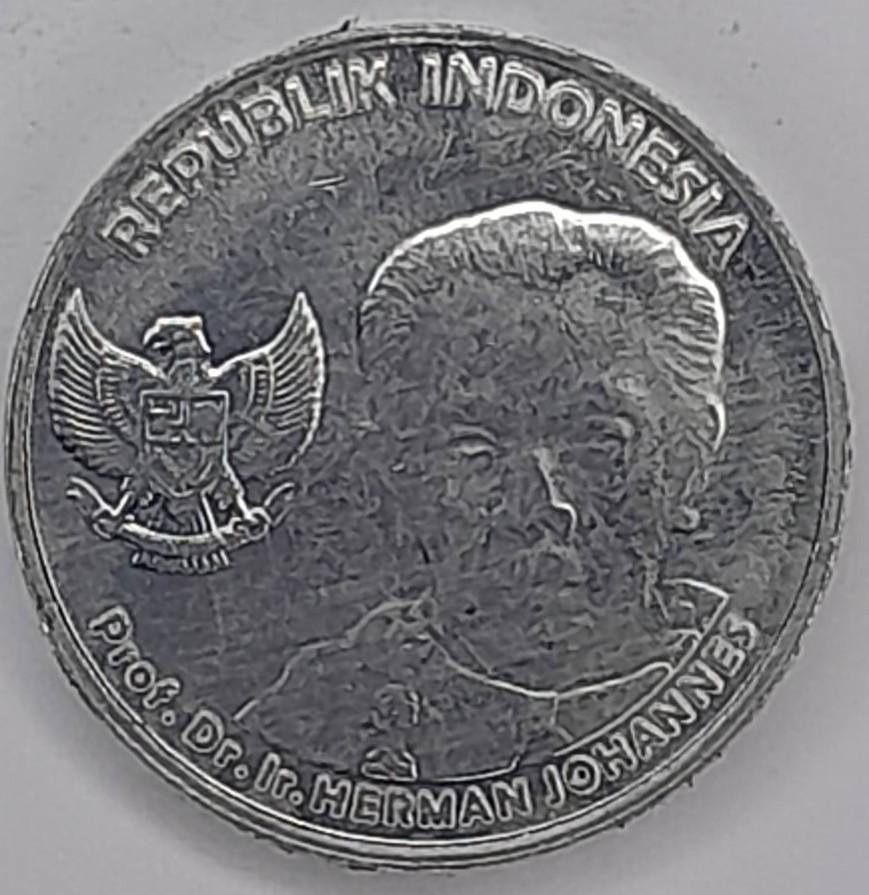coin_100_e2016: (0, 12, 857, 875)
